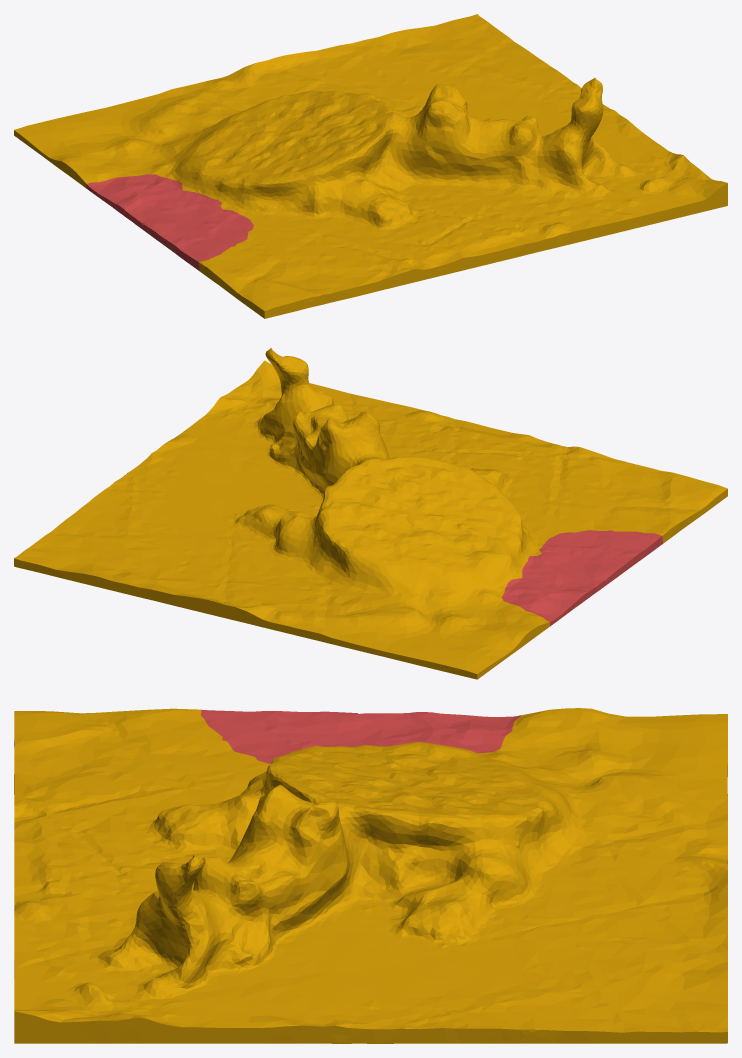
The model's file is fractured_27_2pcs.glb.
The picture shows the model from 3 angles, top to bottom: view 1: azimuth 30°, elevation 25°; view 2: azimuth 150°, elevation 25°; view 3: azimuth 270°, elevation 25°; orthographic projection. The views are drawn at different scales.
Visible parts, largest first — view 1: piece_0.obj, piece_1.obj; view 2: piece_0.obj, piece_1.obj; view 3: piece_0.obj, piece_1.obj.
Boxes of the visible parts, bbox=[...] form: piece_0.obj: bbox=[14, 14, 727, 318]; piece_1.obj: bbox=[86, 174, 253, 270]; piece_0.obj: bbox=[14, 348, 727, 679]; piece_1.obj: bbox=[501, 530, 662, 626]; piece_0.obj: bbox=[14, 708, 727, 1043]; piece_1.obj: bbox=[200, 710, 521, 763].
Bounding box in the file's own units: 1 × 0.2042 × 0.9367.
